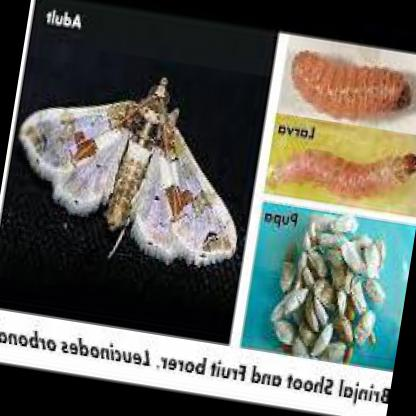leucinodes: (17, 78, 238, 261)
